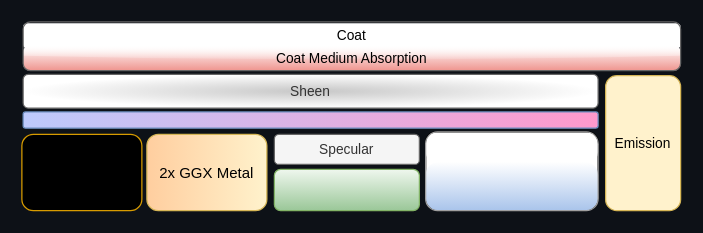
The diagram is 703 pixels wide and 233 high, and some of its shapes have lost their labels. The shapes that lost their labels are listed below. From the top down, each one's centre as x and y in pixels, then its label:
the point at 310,119: Thin-film interferences
the point at 511,147: Transmission
the point at 346,189: Diffuse Diffuse transmission
the point at 511,185: Homogeneous Volumetric Absorption
